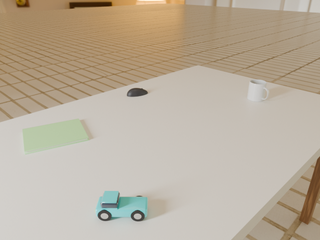book: (23, 119, 89, 154)
cup: (247, 80, 269, 102)
mouse: (127, 88, 148, 97)
toy_car: (95, 191, 148, 221)
